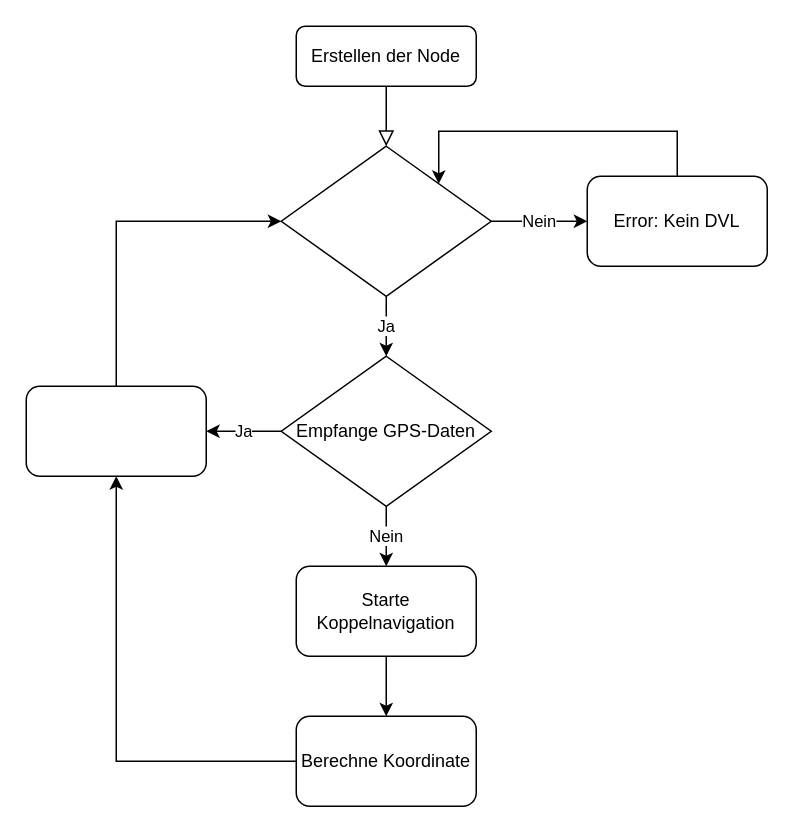
The diagram is 794 pixels wide and 833 high, and some of its shapes have lost their labels. The shapes that lost their labels are listed below. From the top down, each one's centre as x and y in pixels, then its label:
point 385,220: Empfange DVL-Daten
point 115,430: Koordinate speichern
